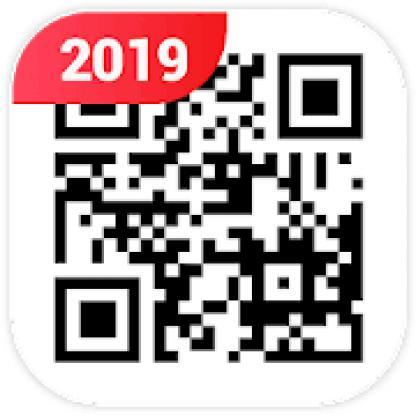qr_code: (54, 54, 363, 362)
